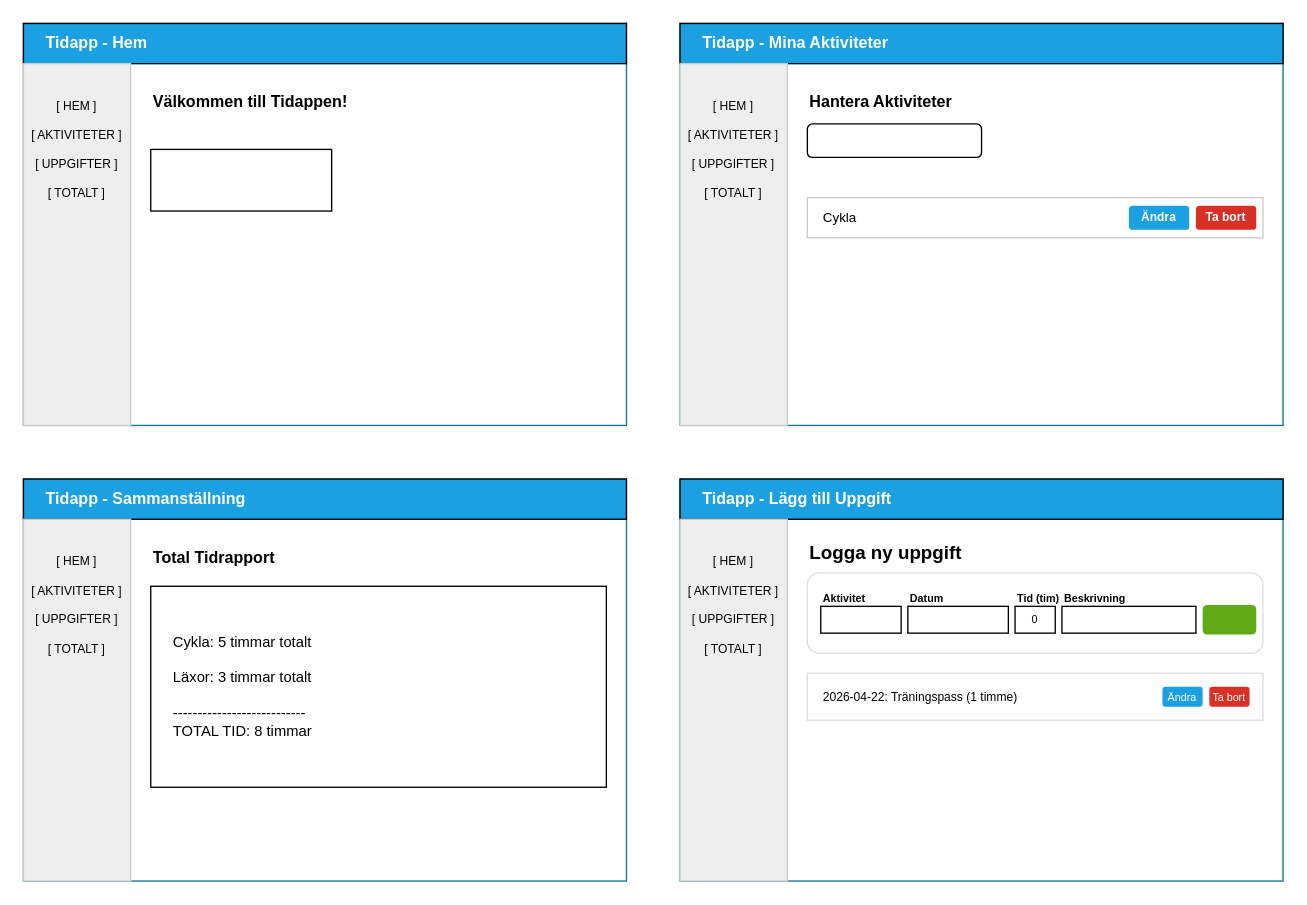
The diagram is 1307 pixels wide and 905 high, and some of its shapes have lost their labels. The shapes that lost their labels are listed below. From the top down, each one's centre as x and y in pixels, then its label:
At (894,140): "[+] Skapa ny aktivitet".
At (240,179): "Detta är din startsida.".
At (860,619): "Cykla ▼".
At (957,619): "åååå-mm-dd".
At (1128,619): "Vad gjorde du?".
At (1229,619): "Spara".
